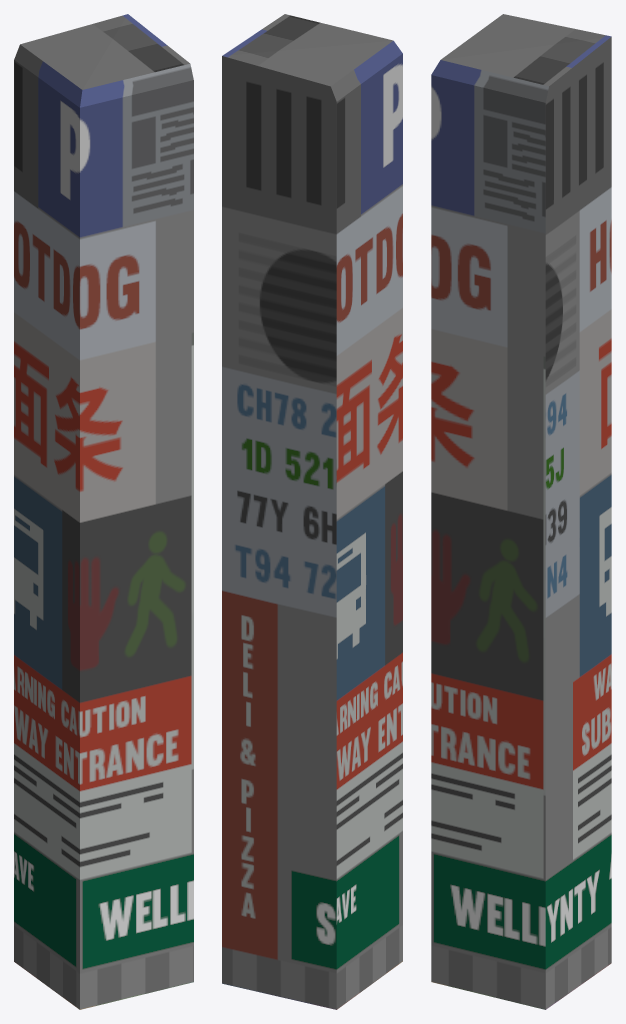
Rendered from SM_Bld_Base_Pillar_Half_04.glb.
The picture shows the model from 3 angles, left to right: view 1: azimuth 30°, elevation 25°; view 2: azimuth 150°, elevation 25°; view 3: azimuth 330°, elevation 25°; orthographic projection.
Parts seen in each view (by area): view 1: SM_Bld_Base_Pillar_Half_04; view 2: SM_Bld_Base_Pillar_Half_04; view 3: SM_Bld_Base_Pillar_Half_04.
Boxes of the visible parts, x1,y1,x2,y2 form: SM_Bld_Base_Pillar_Half_04: [14, 14, 193, 1009]; SM_Bld_Base_Pillar_Half_04: [222, 14, 402, 1009]; SM_Bld_Base_Pillar_Half_04: [431, 14, 611, 1009].
Bounding box in the file's own units: 0.1956 × 1.51 × 0.1956.
Materials: 1 (1 with a texture image).
